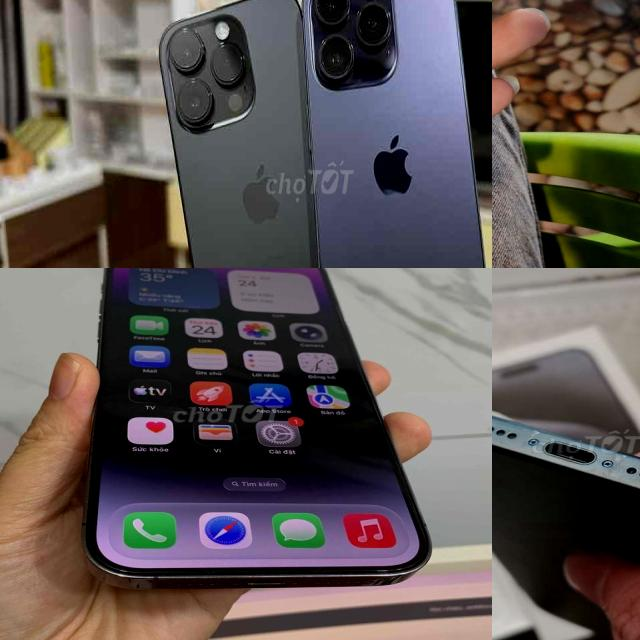gen_14: (91, 268, 434, 601), (306, 0, 492, 268)
gen_15: (492, 398, 640, 640)
scratch: (524, 422, 546, 438), (612, 450, 634, 464)
